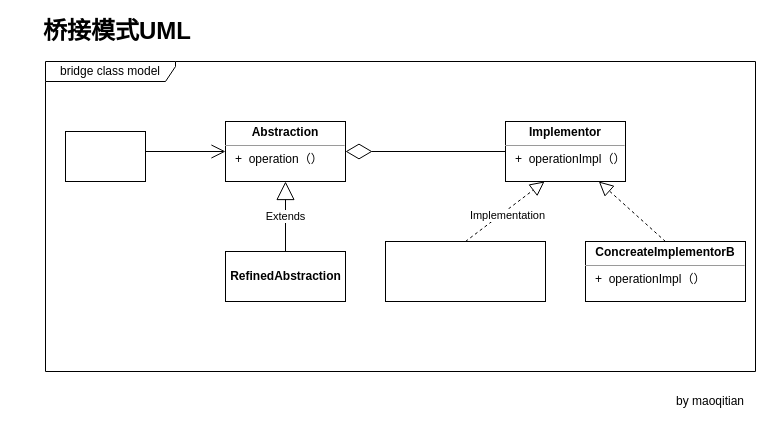
This 773x429 diagram has some shape labels left out. The centre of each missing label's shape, as x and y in pixels:
client: the point at 105,156
ConcreateImplementorA + operationImpl（）: the point at 465,271
